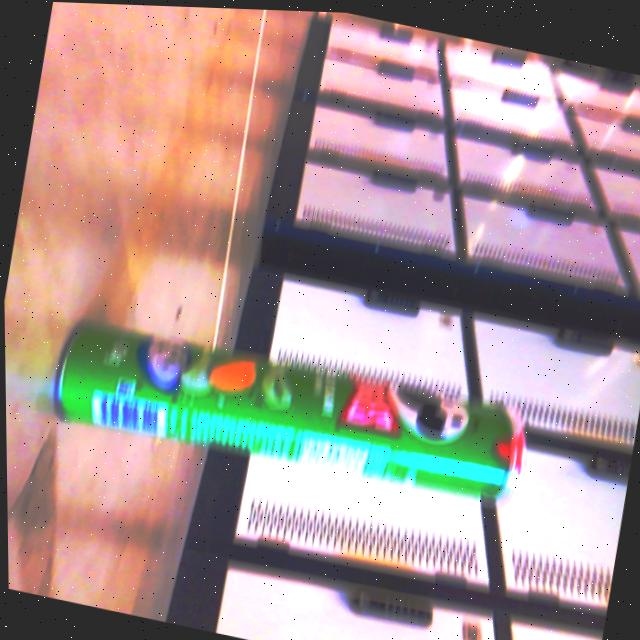greenpringles: (29, 291, 546, 536)
